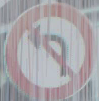Don't turn left: (12, 9, 82, 89)
